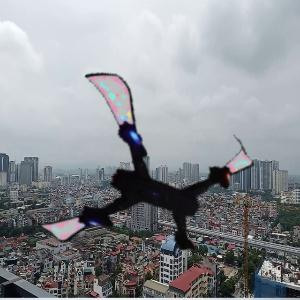drone: (35, 87, 233, 285)
